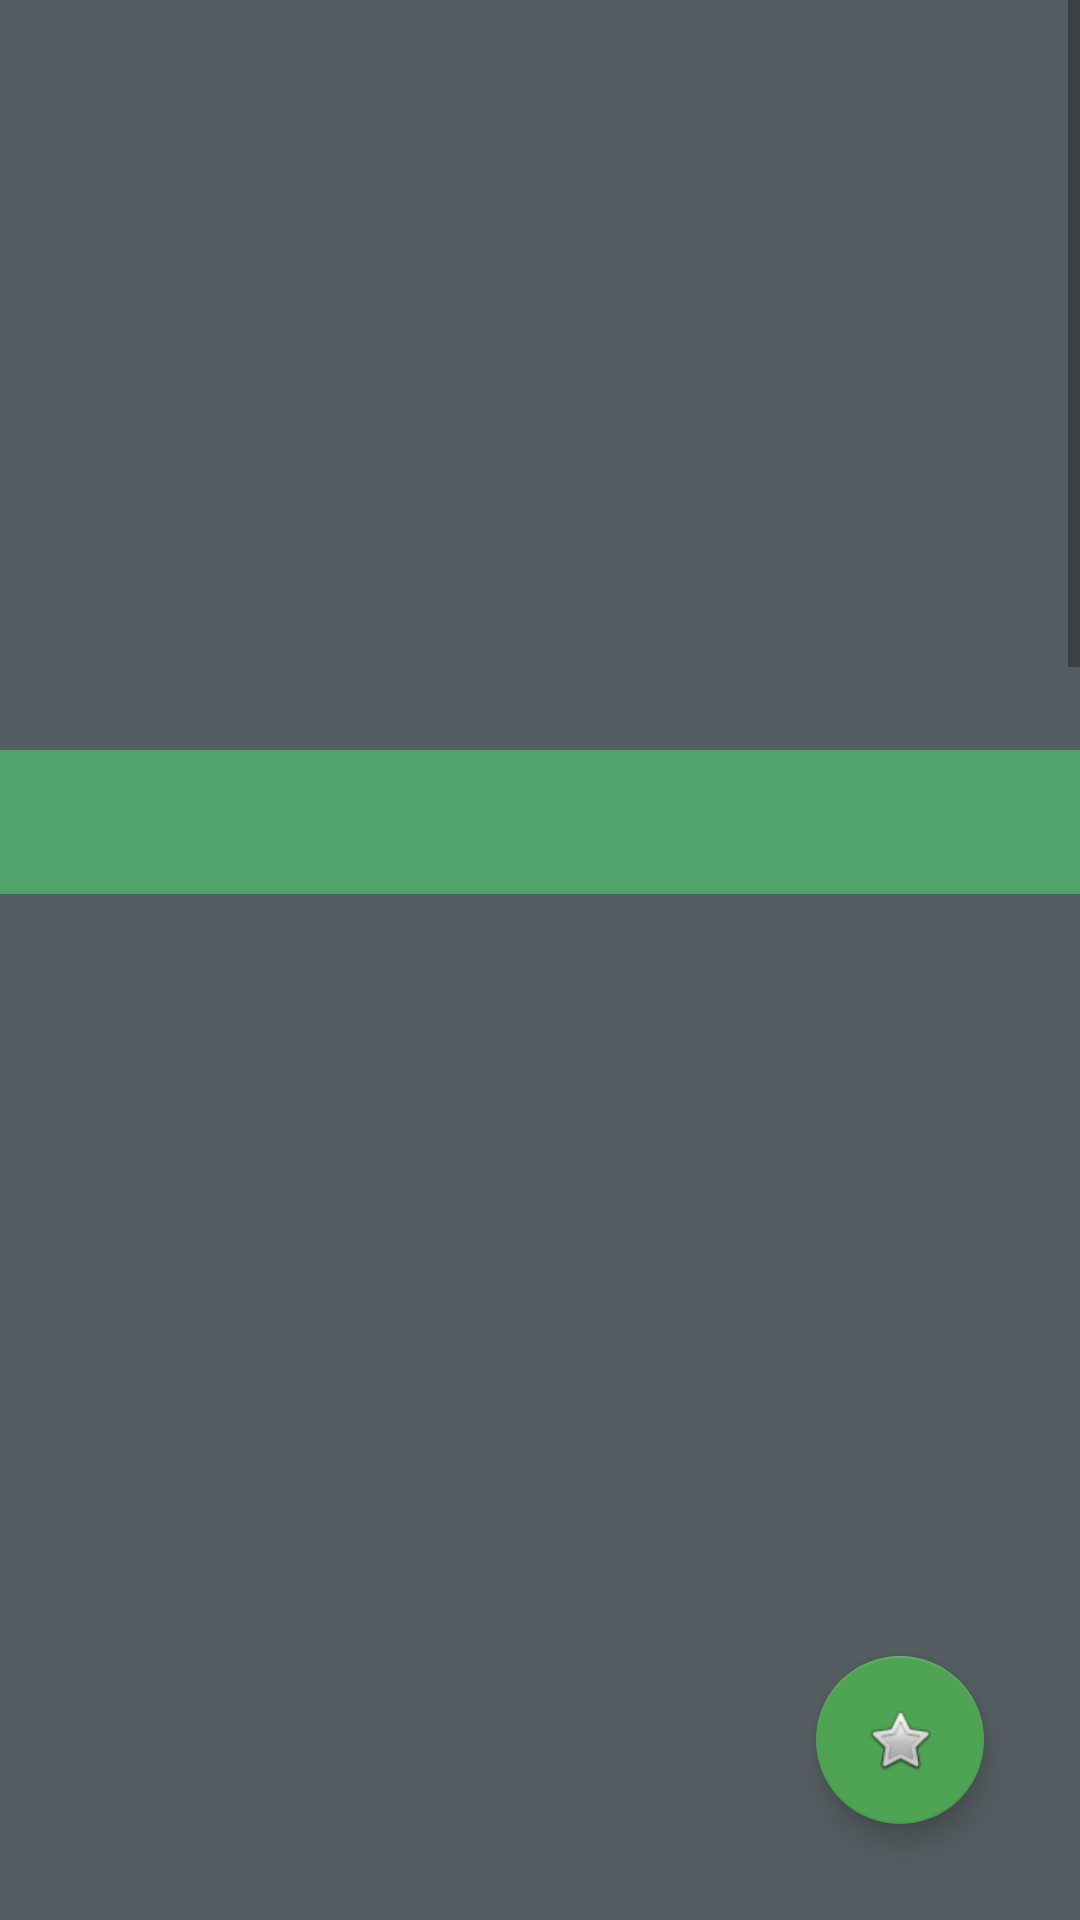

Locate icon controls on the screen. Image size 1080px x 1920px, boxes as (x1, y1, x2, y2).
star off: (816, 1656, 984, 1824)
